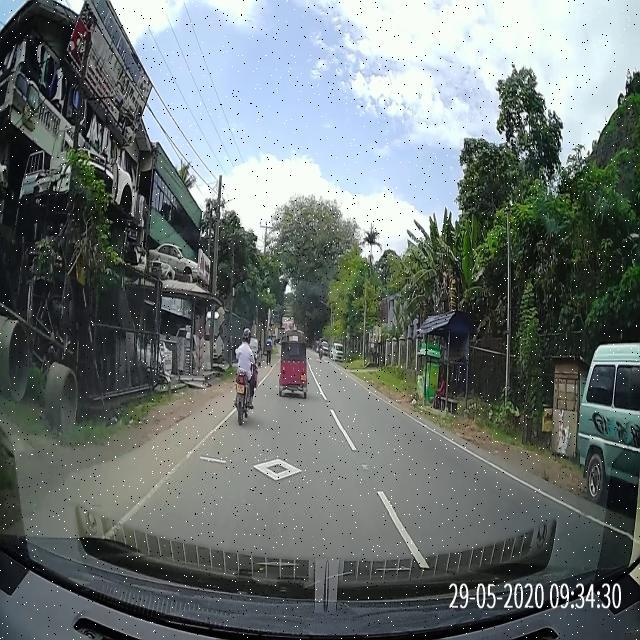diamond: (151, 431, 402, 514)
